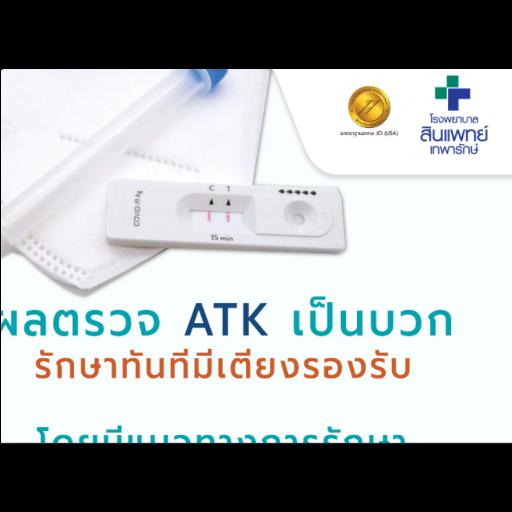Pos: (105, 178, 345, 249)
